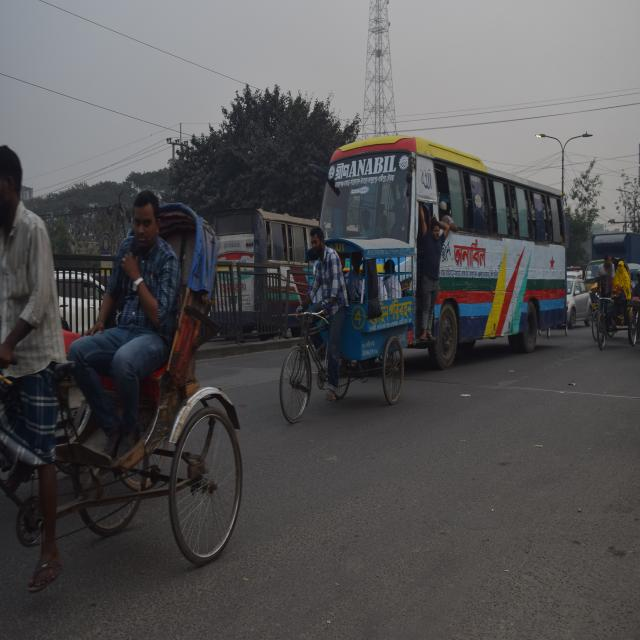bus: (323, 133, 570, 392), (216, 197, 317, 338)
car: (568, 268, 592, 331)
pickup-van: (590, 228, 640, 280)
